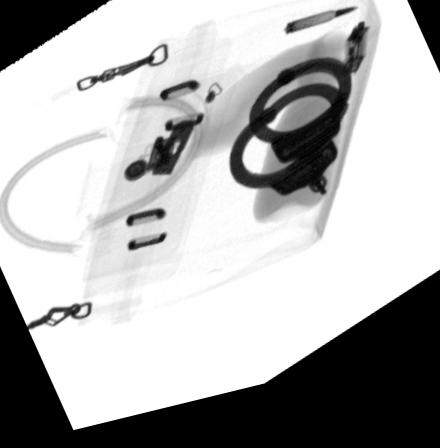Bullet: (287, 25, 358, 49)
HandCuffs: (228, 72, 355, 217)
